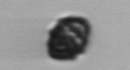plankton: (44, 13, 94, 62)
